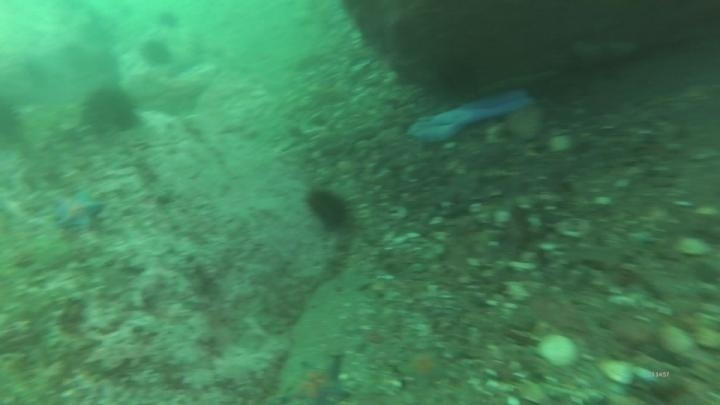echinus: (80, 84, 142, 137), (431, 54, 485, 102), (304, 185, 356, 233), (1, 97, 27, 150), (138, 37, 174, 70), (158, 11, 181, 30)
scallop: (534, 330, 580, 369)
starfish: (280, 354, 353, 405), (50, 186, 106, 234), (394, 346, 454, 389)
